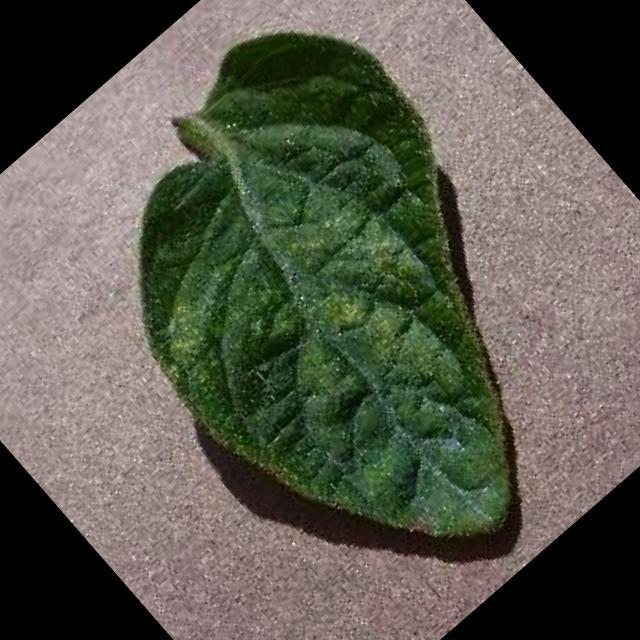Tomato spider mites leaf: (25, 0, 640, 635)
